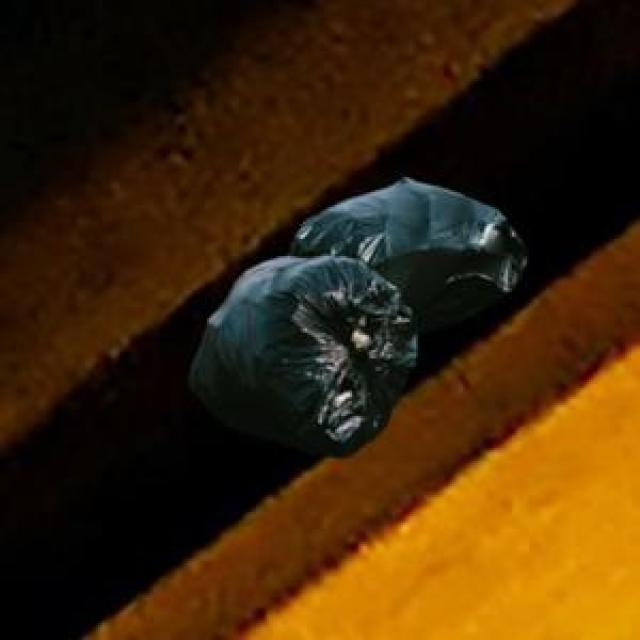waste: (189, 178, 528, 454)
